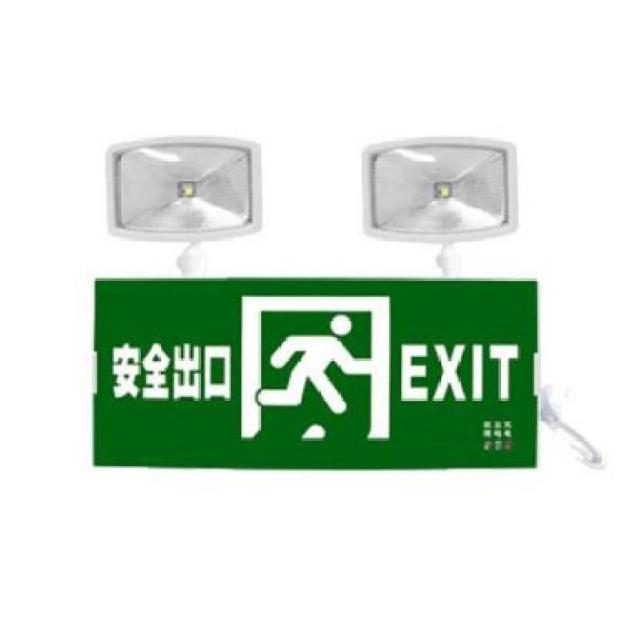exit_sign: (91, 278, 533, 467)
